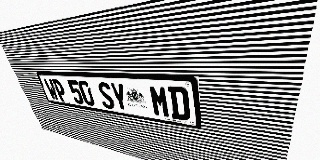0: (77, 80, 96, 107)
5: (67, 80, 85, 105)
D: (167, 86, 191, 121)
M: (149, 85, 171, 118)
P: (51, 79, 69, 102)
S: (96, 82, 116, 110)
W: (43, 78, 60, 101)
Y: (109, 82, 129, 112)
